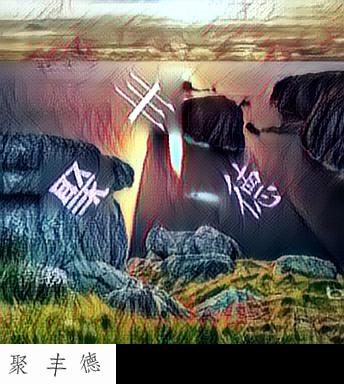character: (111, 69, 177, 136), (217, 159, 285, 224), (47, 159, 111, 217)
